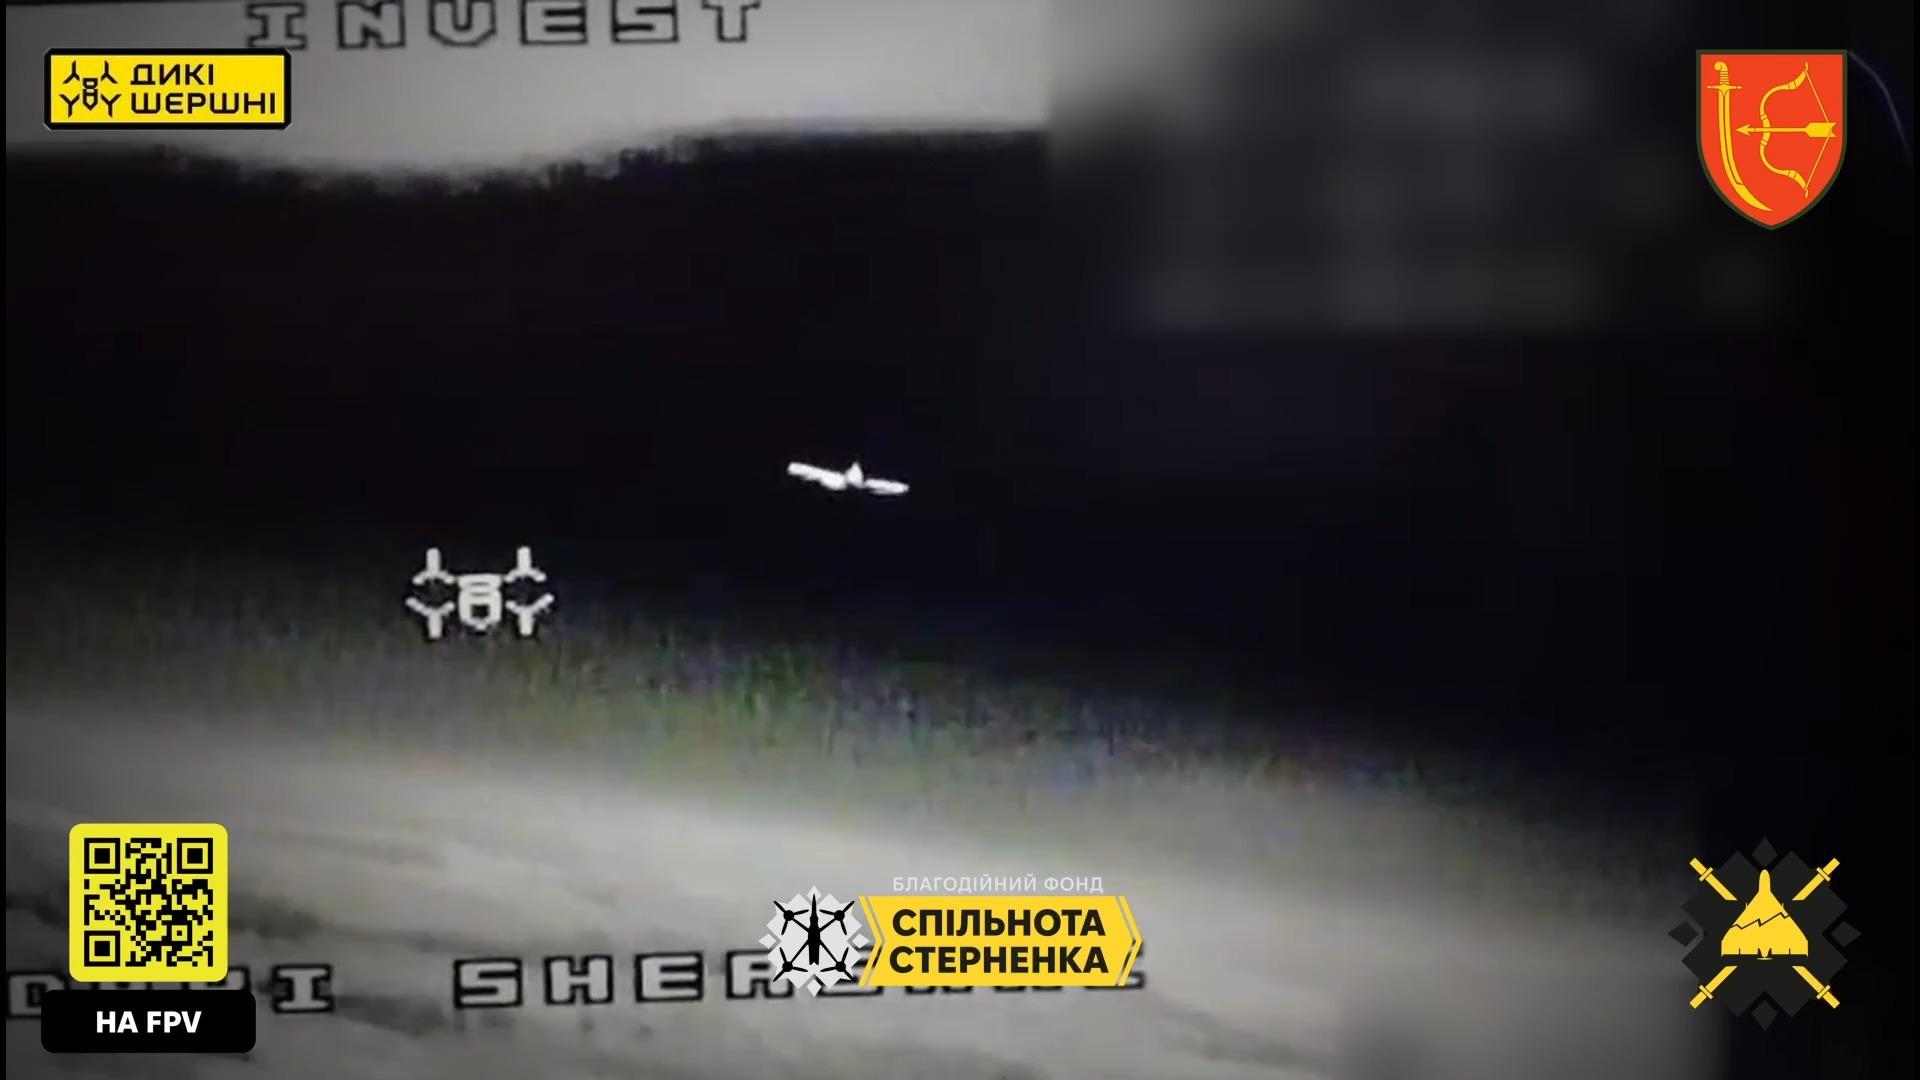Gerbera: (786, 459, 909, 497)
